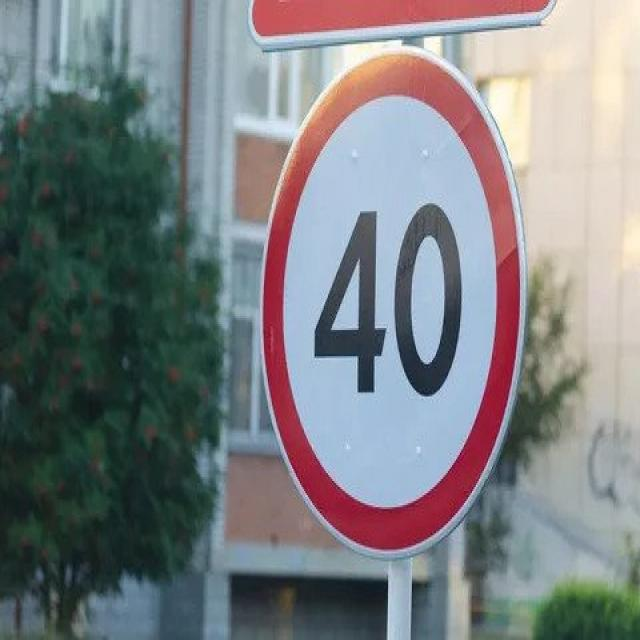speed limit 40: (256, 46, 531, 566)
